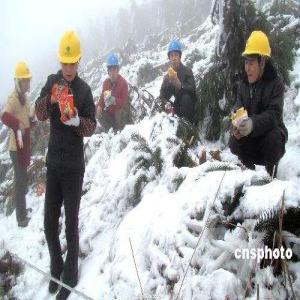blue: (106, 53, 121, 83), (168, 40, 182, 67)
yellow: (243, 33, 274, 82), (59, 31, 82, 82), (15, 61, 32, 97)
